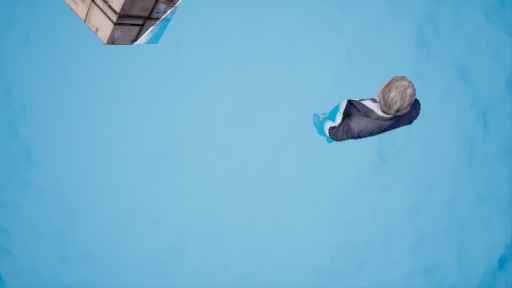person: (319, 75, 431, 151)
